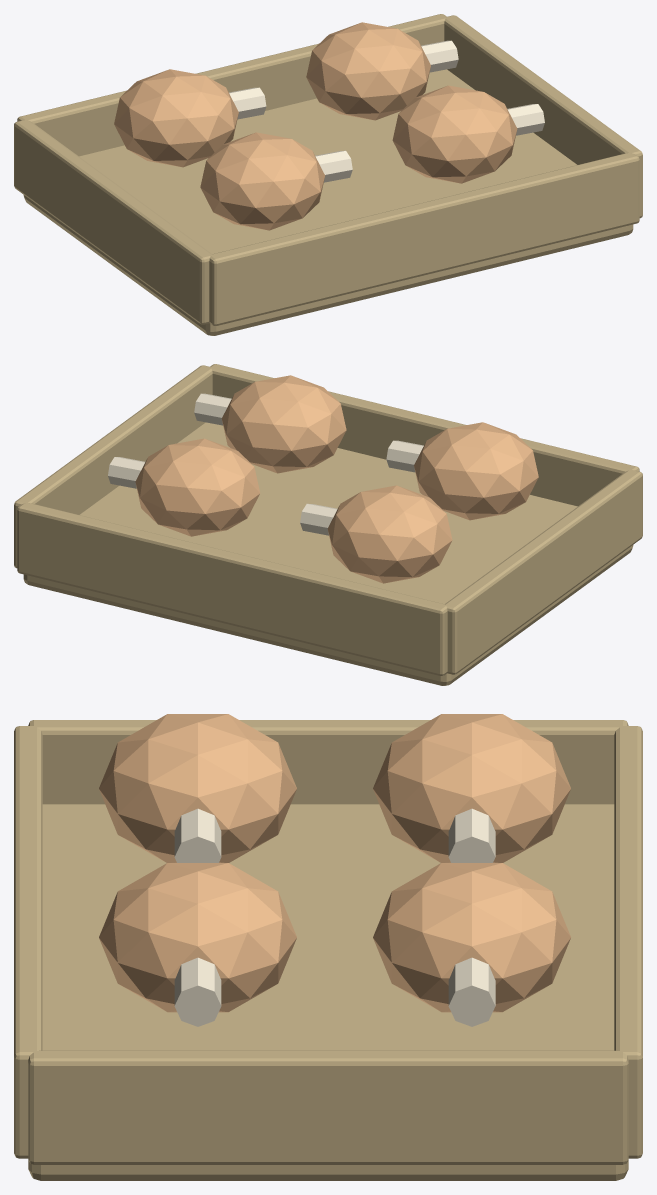
Rendered from drumsticks.fbx.
3 renders of one model, top to bottom at view 1: azimuth 30°, elevation 25°; view 2: azimuth 150°, elevation 25°; view 3: azimuth 270°, elevation 25°, orthographic. The views are drawn at different scales.
Visible parts, largest first — view 1: drumsticks; view 2: drumsticks; view 3: drumsticks.
Part boxes in pixels (x1,y1,x2,y2): drumsticks: (14, 14, 642, 335); drumsticks: (14, 364, 642, 685); drumsticks: (14, 714, 642, 1180).
Bounding box in the file's own units: 31.1 × 9.1 × 24.1.
